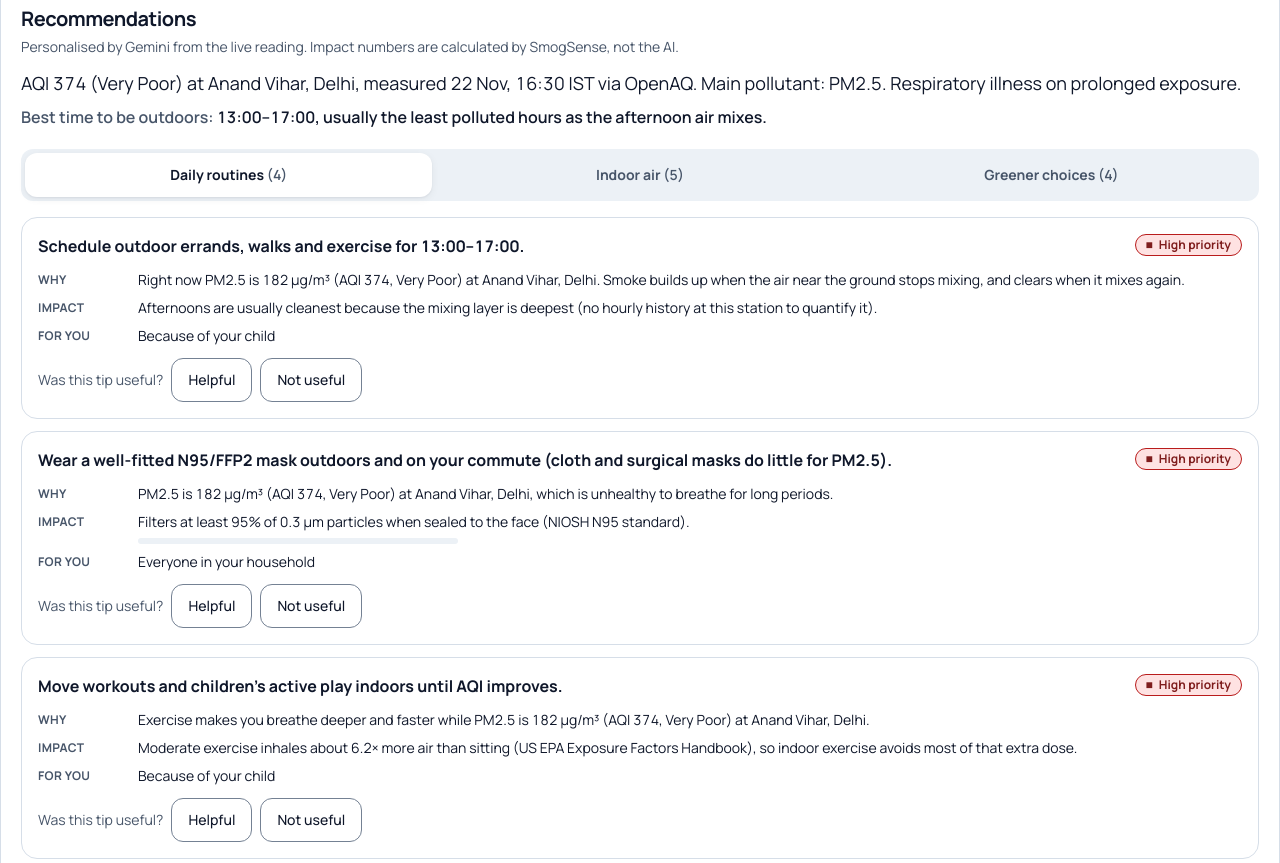
AdviceTabs › supports arrow, Home and End keys between tabs
This screenshot has width=1280, height=863.
Click the tab "Daily routines (4)" at (229, 175), box [25,153,432,197]
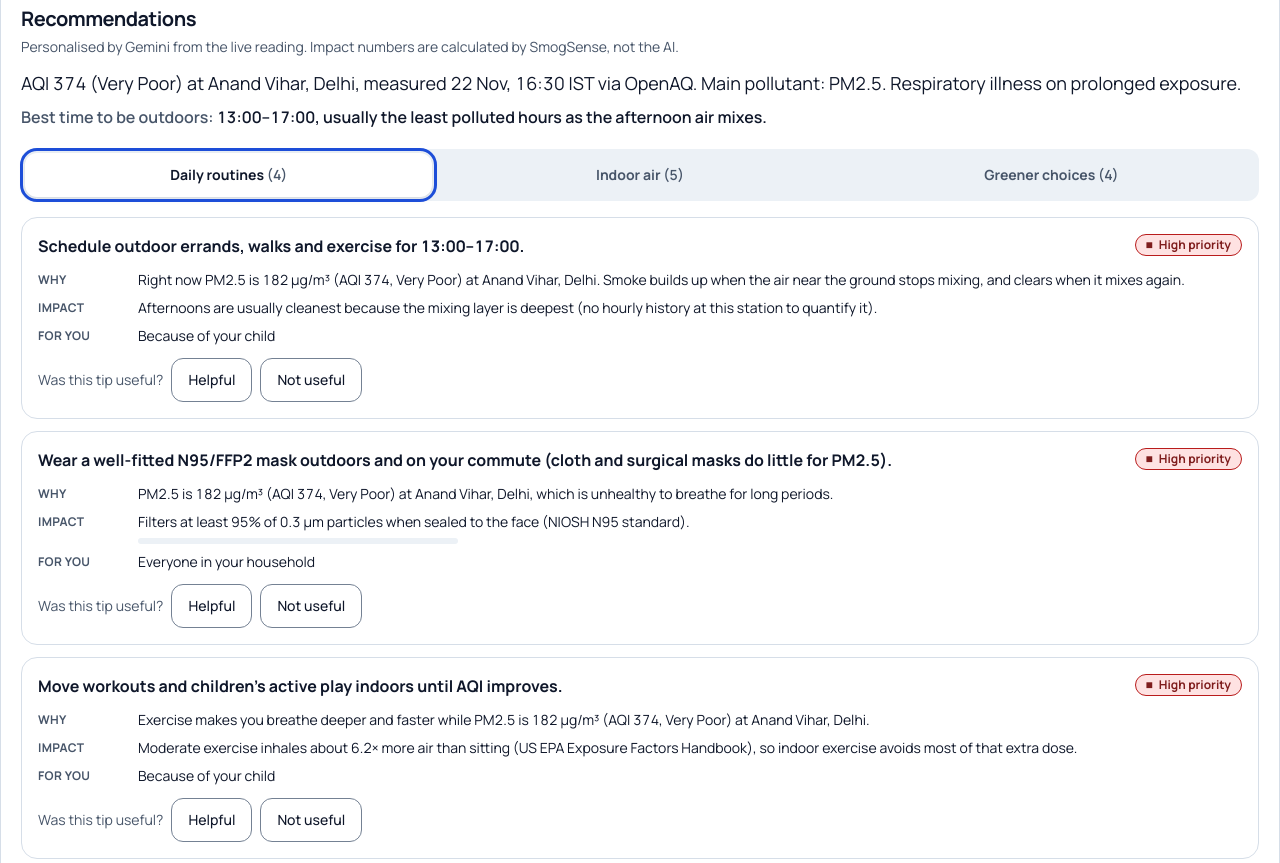
Press Arrowright
(page scrolled)
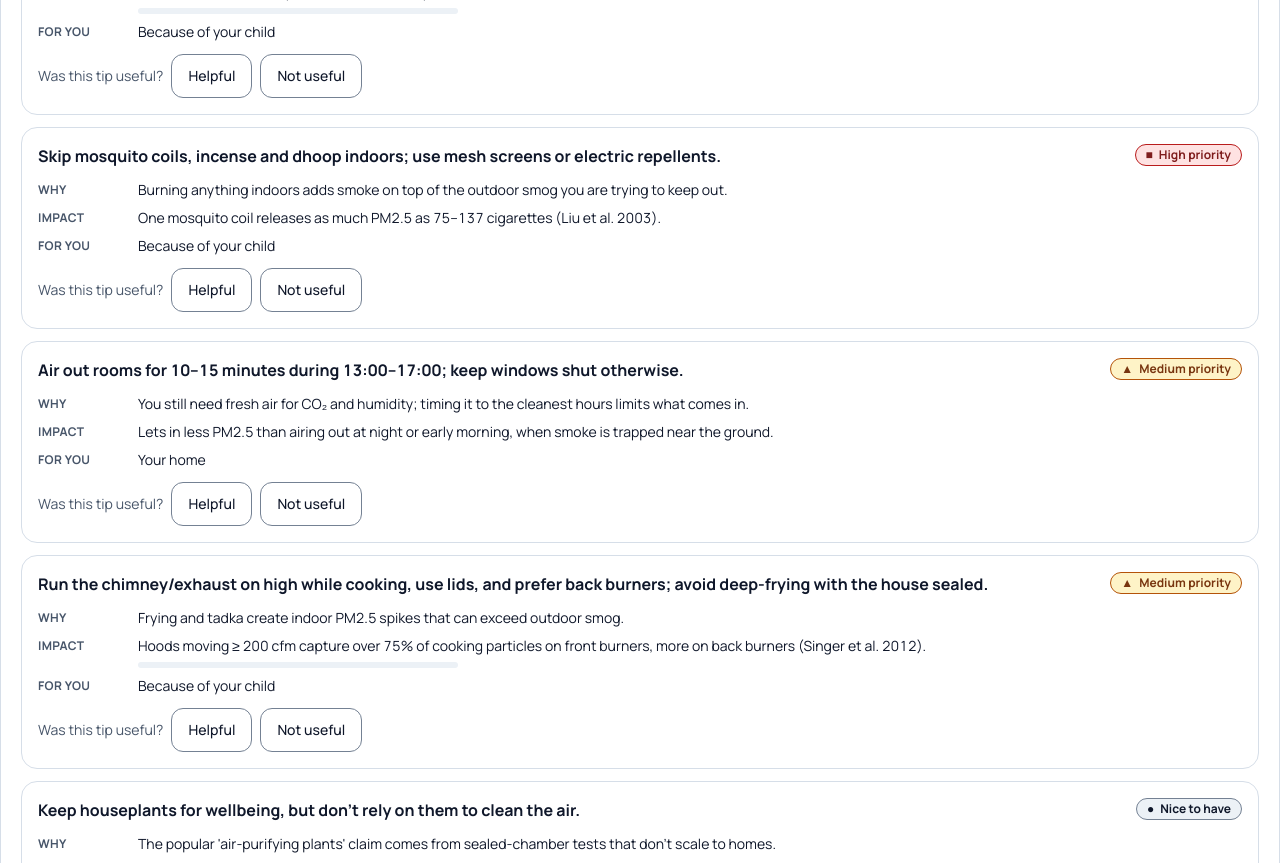
Press End
(page scrolled)
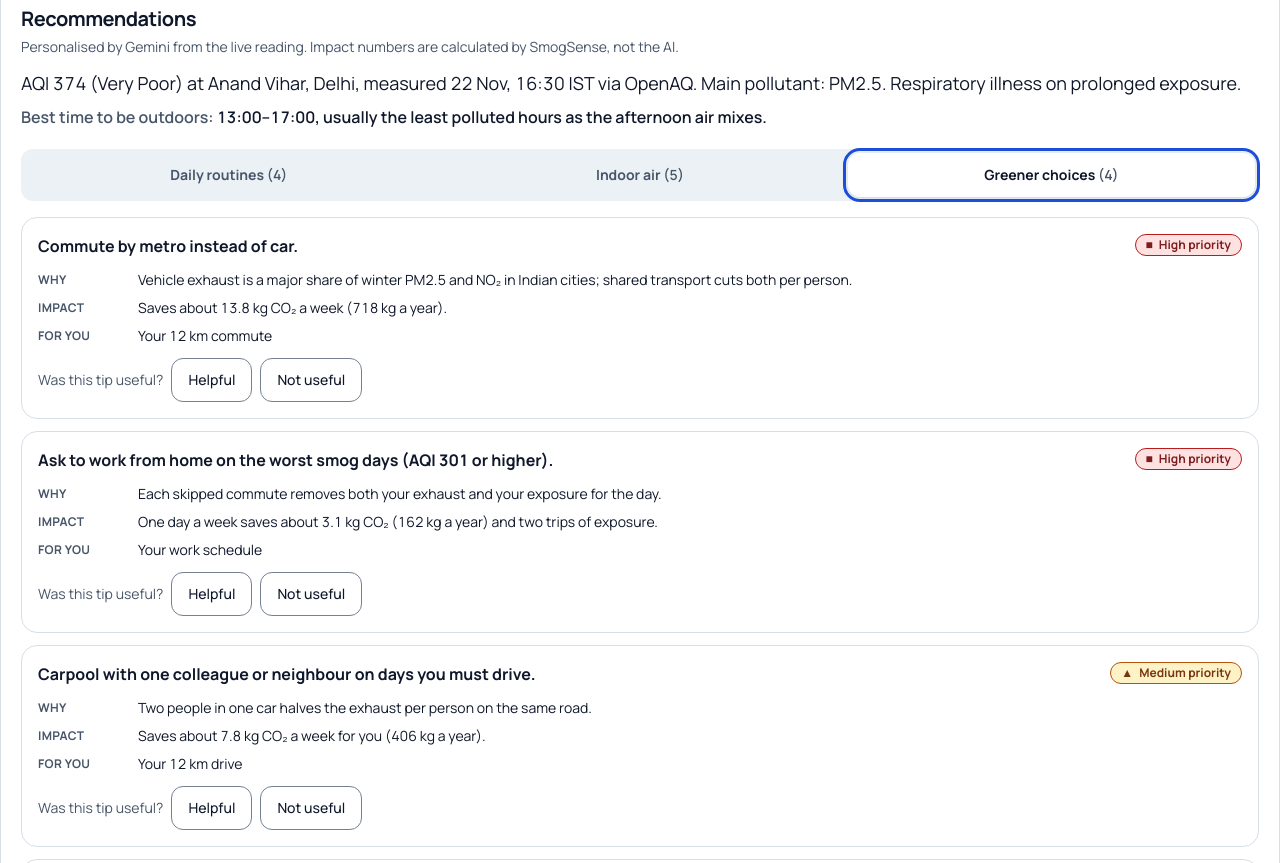
Expected: the tab "Greener choices (4)" is selected, [848,153,1255,197]
Press Arrowright
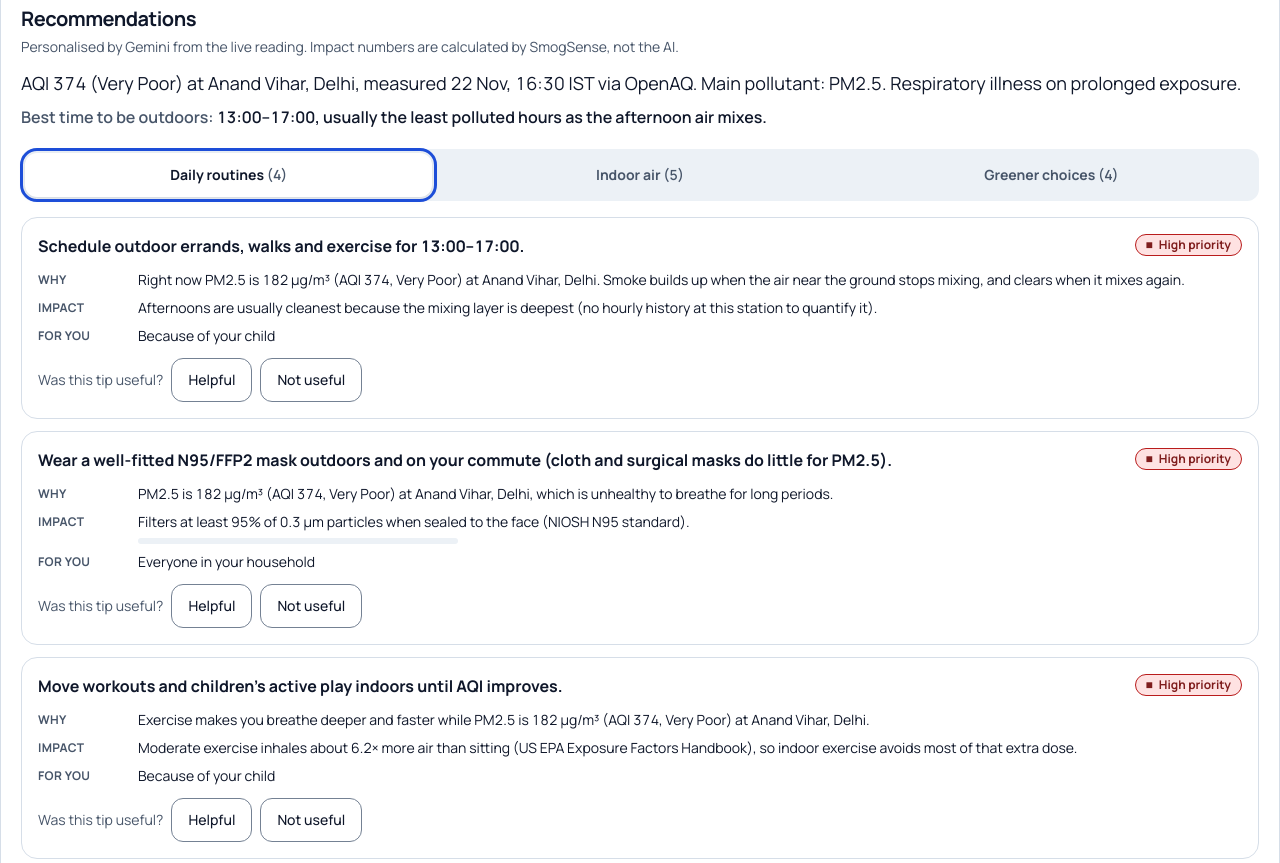
Expected: the tab "Daily routines (4)" is selected, [25,153,432,197]
Press Arrowleft
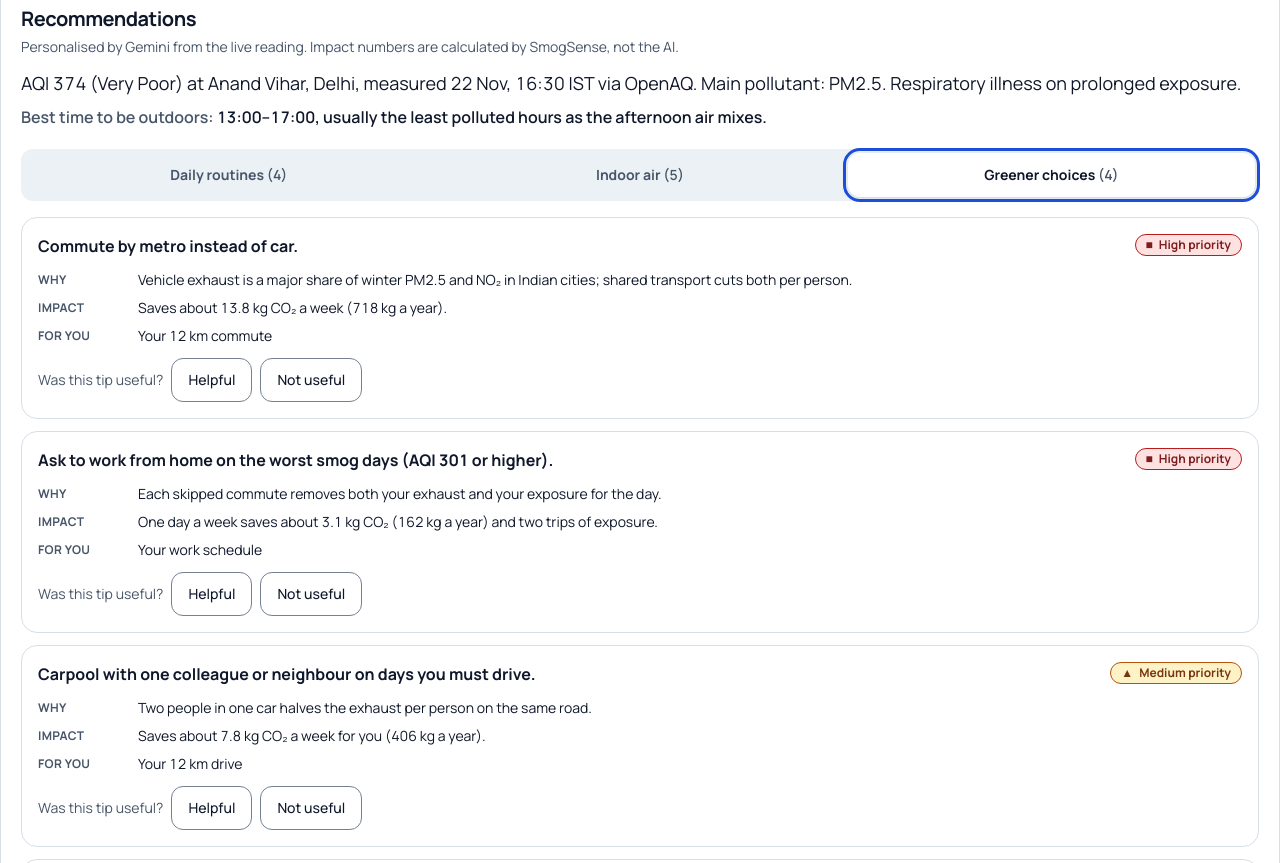
Expected: the tab "Greener choices (4)" is selected, [848,153,1255,197]
Press Home
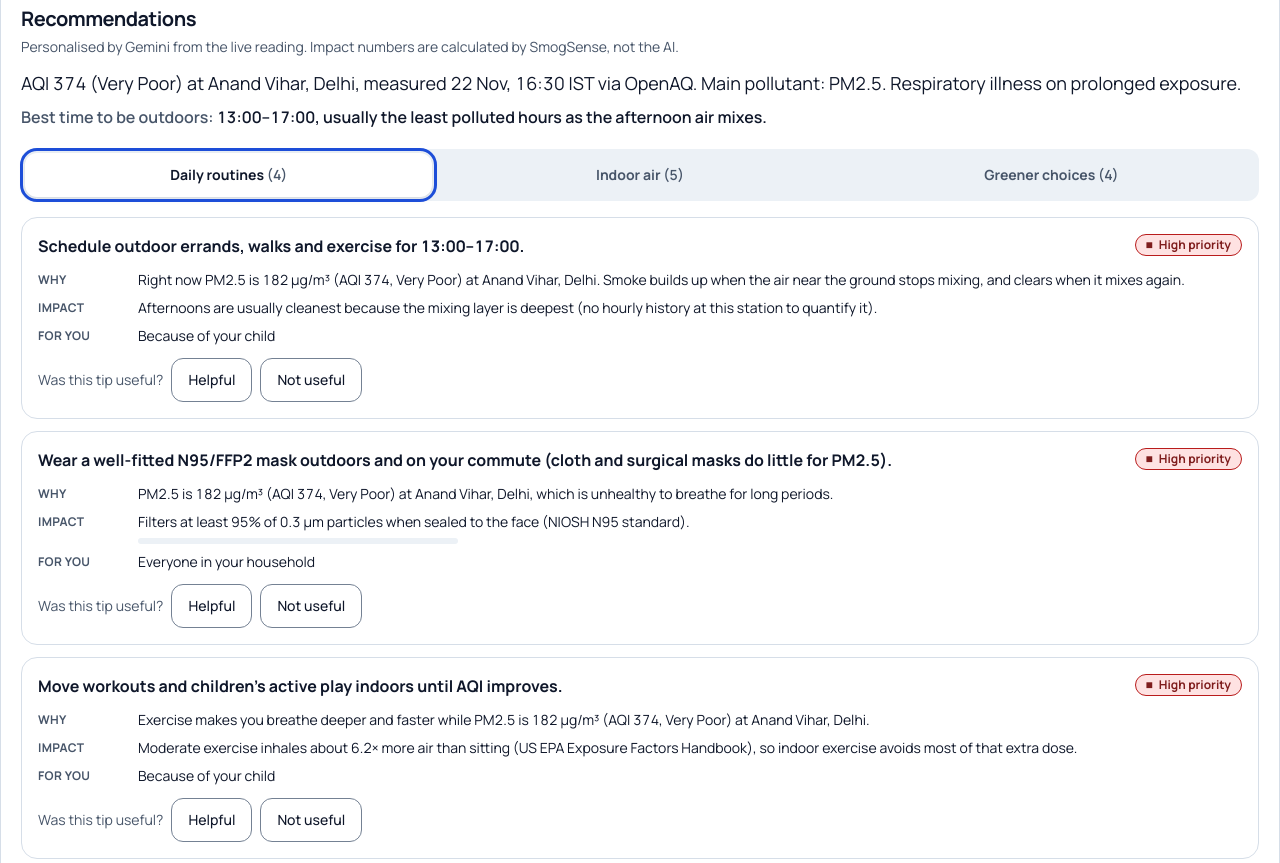
Expected: the tab "Daily routines (4)" is selected, [25,153,432,197]
